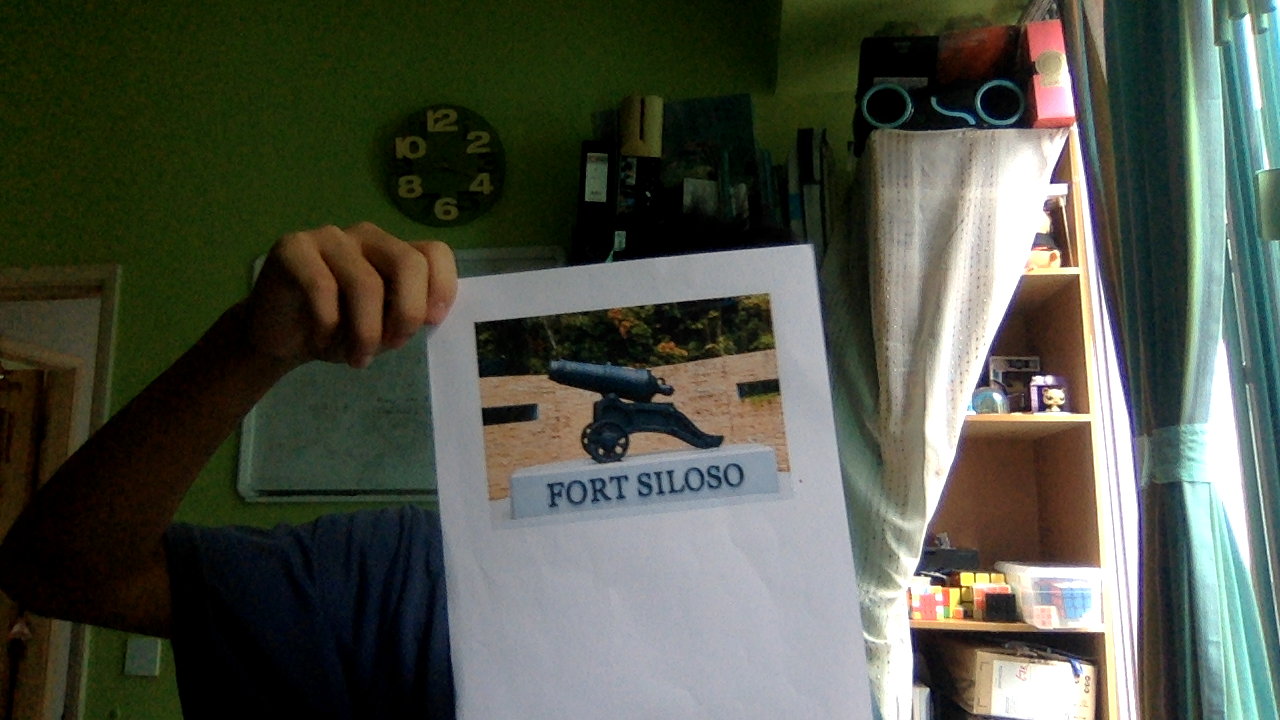siloso: (471, 303, 804, 510)
